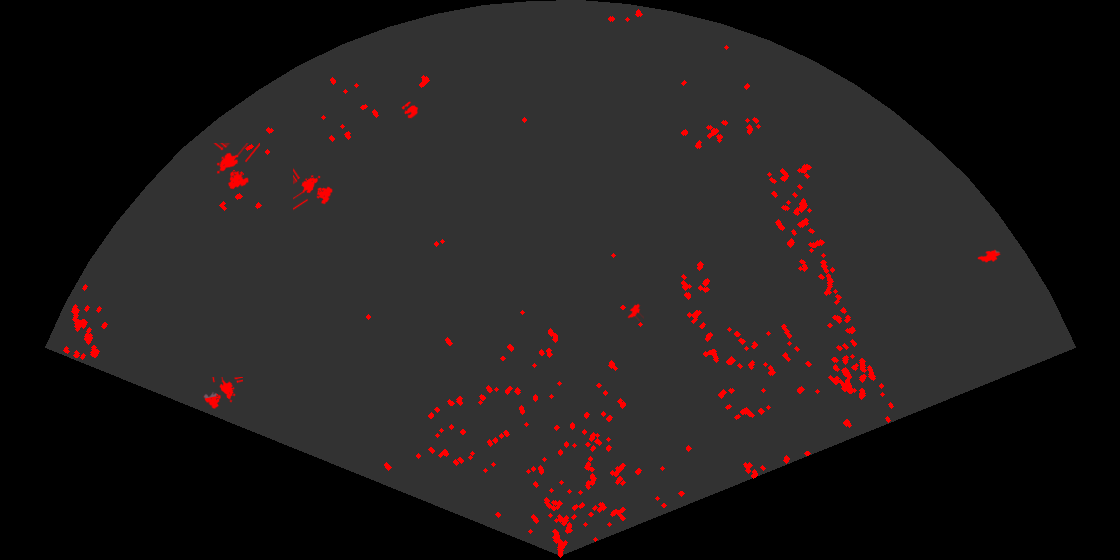AUV: (976, 248, 1002, 263), (626, 302, 644, 321)
ball: (400, 100, 420, 120)
cage: (212, 143, 260, 191), (293, 167, 334, 212), (202, 377, 243, 410)
